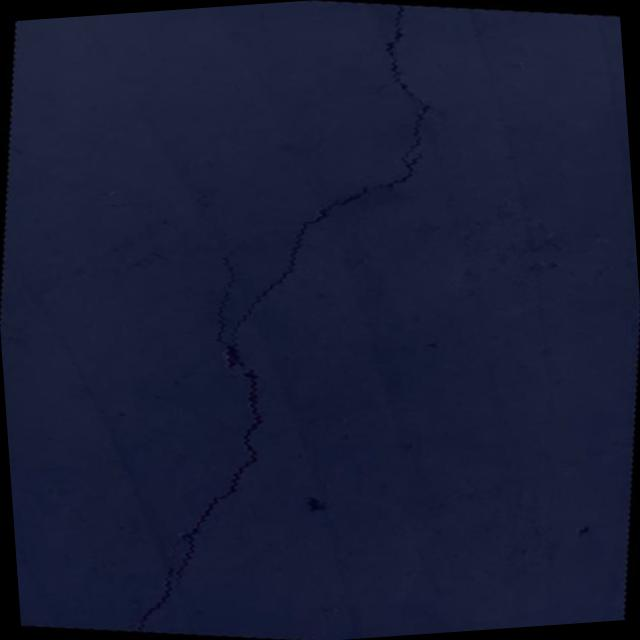crack: (87, 0, 479, 640), (100, 193, 189, 240), (5, 142, 50, 180), (46, 169, 81, 192)
